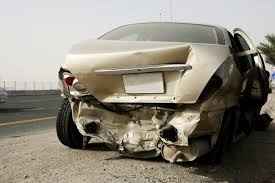Broken-glass: (60, 66, 90, 100), (200, 68, 229, 101)
Dent: (108, 47, 192, 98)
Smashed: (63, 49, 241, 168)
